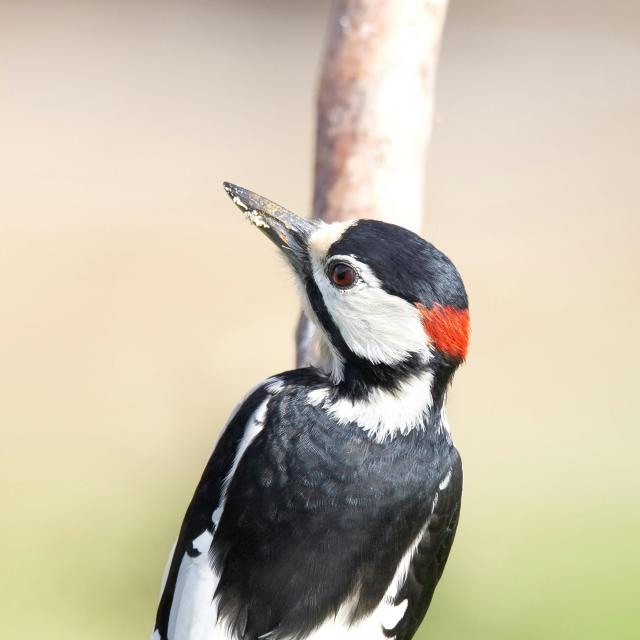Woodpecker: (137, 165, 494, 640)
